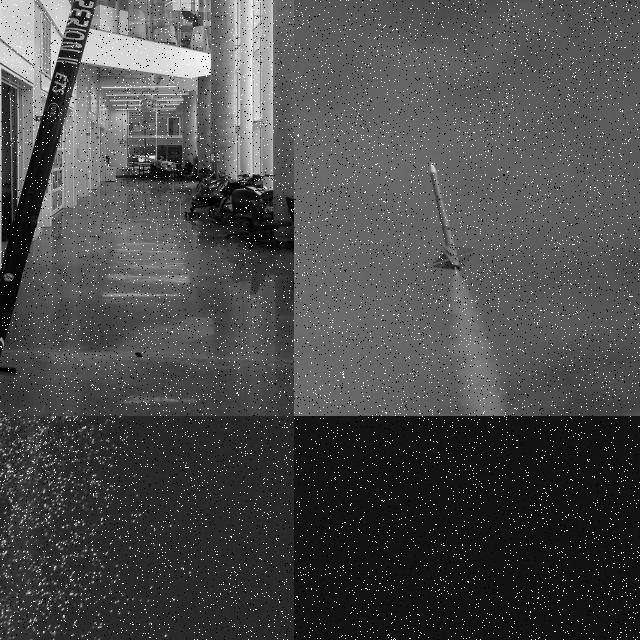Rocket: (0, 0, 98, 361), (429, 162, 475, 269)
